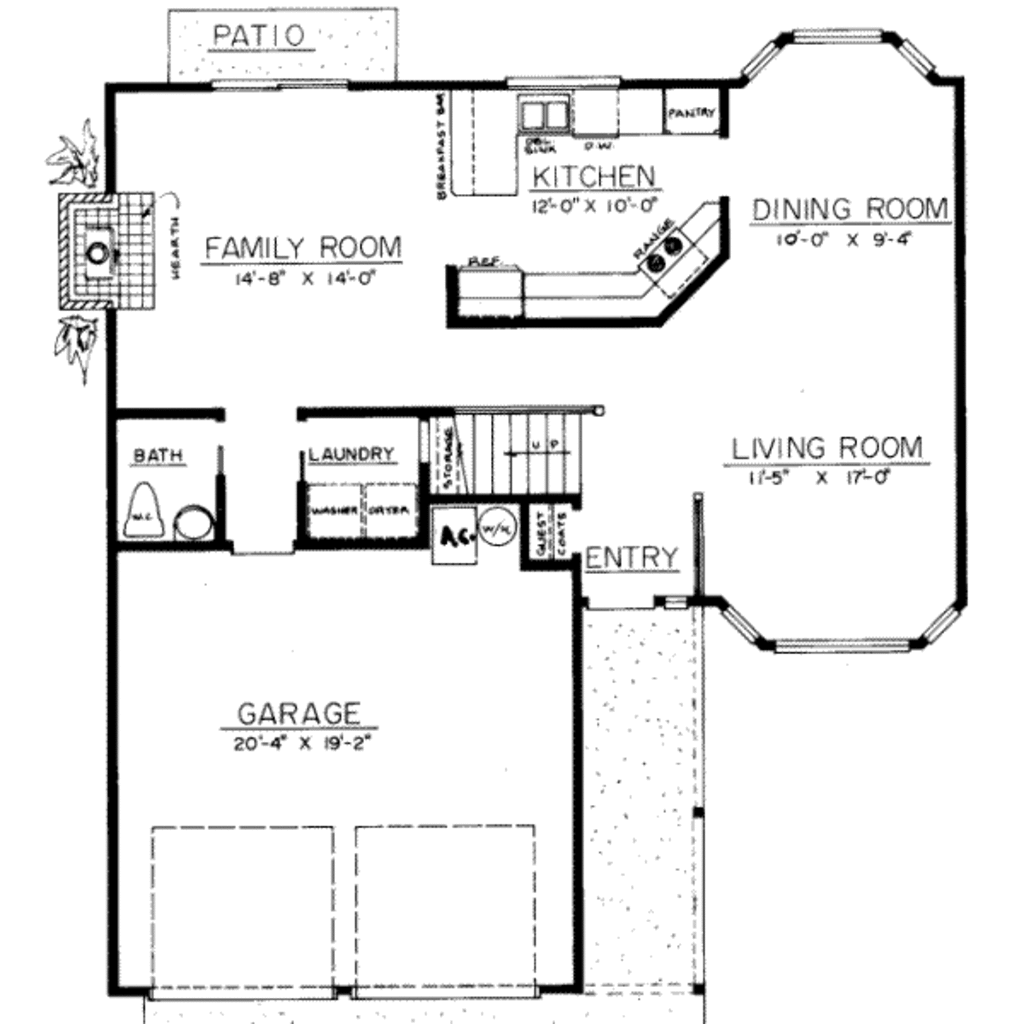large_sink: (117, 481, 172, 535)
small_sink: (174, 501, 224, 552)
stairs: (426, 412, 587, 495)
twin_sink: (512, 86, 588, 140)
window: (762, 634, 919, 663), (733, 20, 785, 98), (921, 597, 976, 661), (787, 20, 893, 50), (716, 603, 772, 654), (888, 25, 936, 83)
